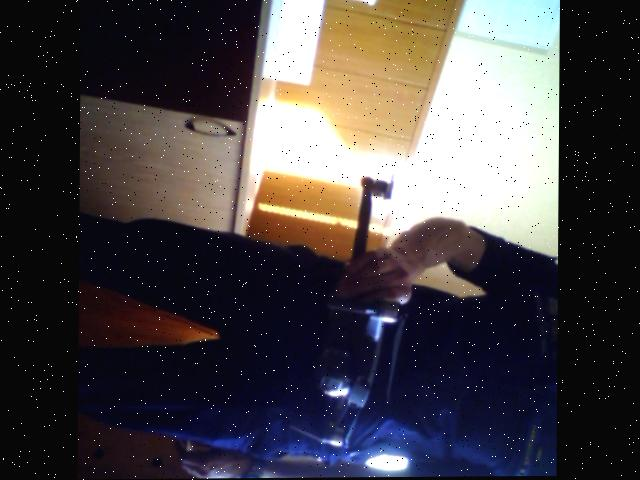drone: (280, 163, 419, 475)
